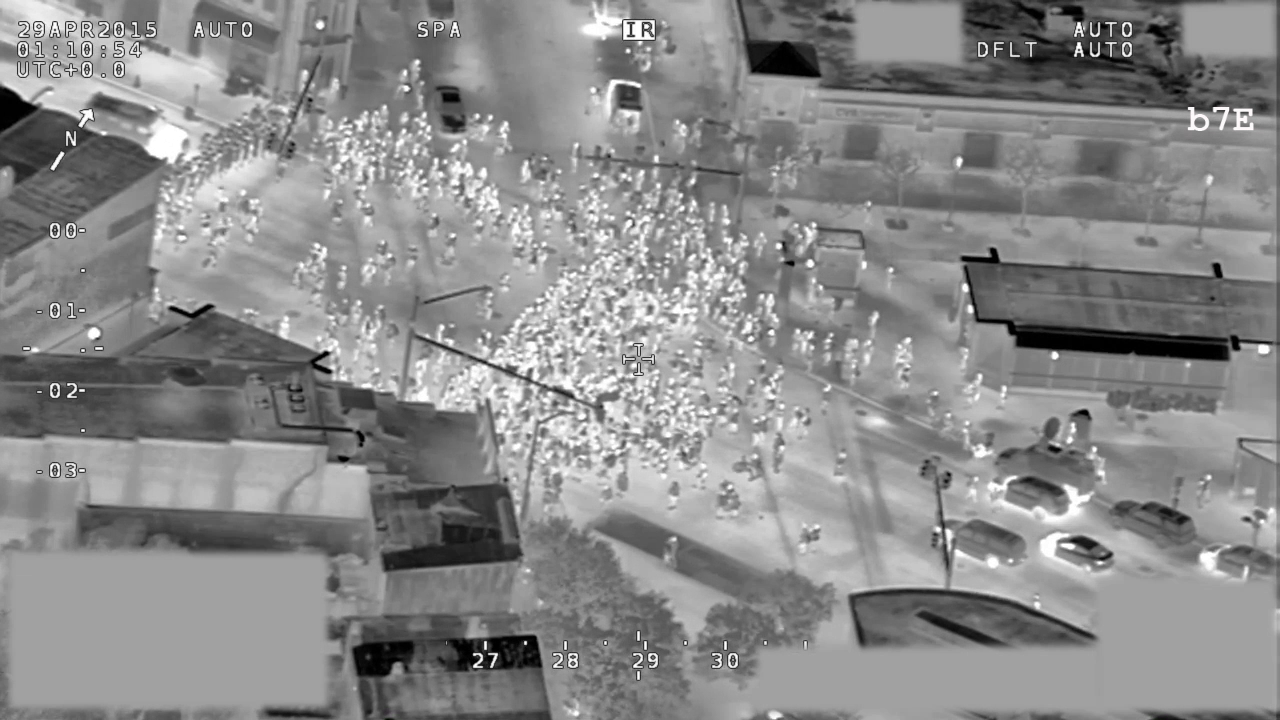vehicle: (994, 418, 1101, 503), (77, 87, 192, 161), (927, 512, 1032, 574), (1107, 493, 1197, 552), (986, 472, 1071, 524), (1039, 531, 1116, 580), (1198, 536, 1280, 582), (602, 73, 647, 139), (432, 80, 471, 143)
